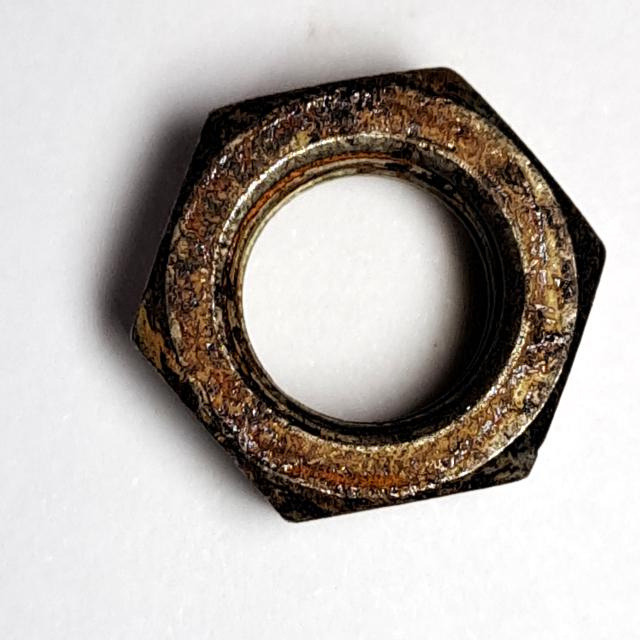Rust: (117, 55, 615, 539)
